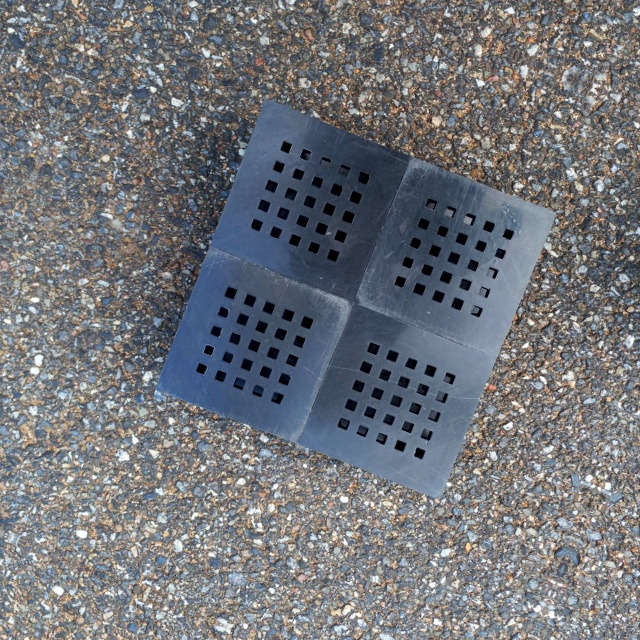pallet: (135, 87, 571, 516)
